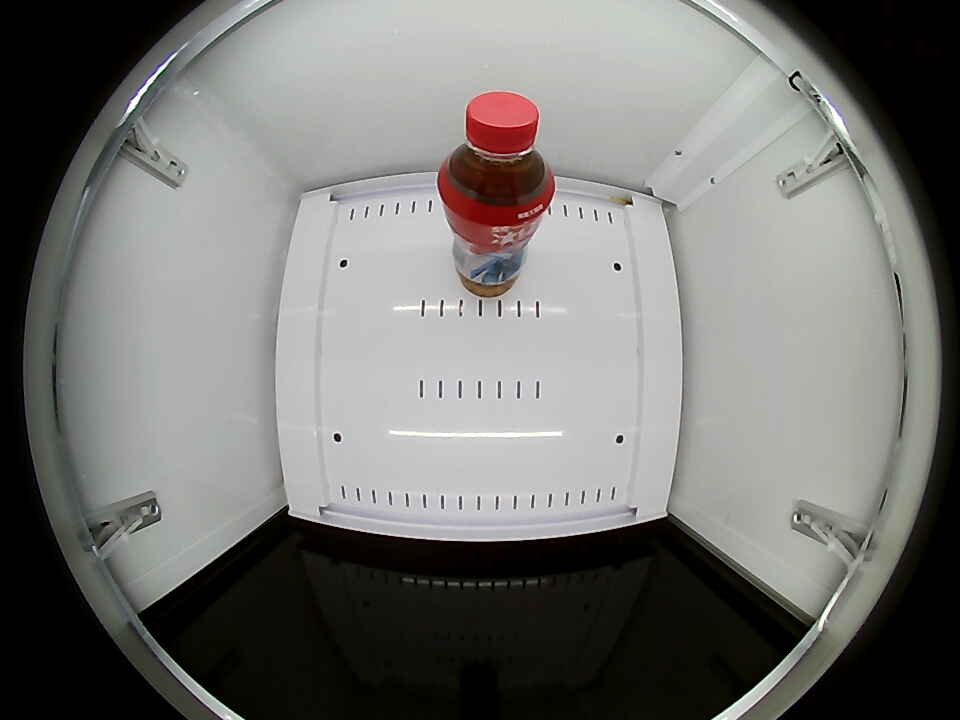binghongcha: (437, 91, 554, 225)
